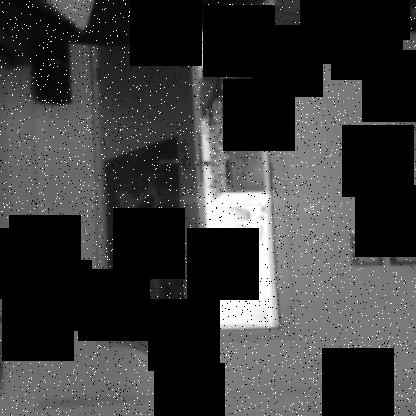Porte: (89, 1, 298, 377)
